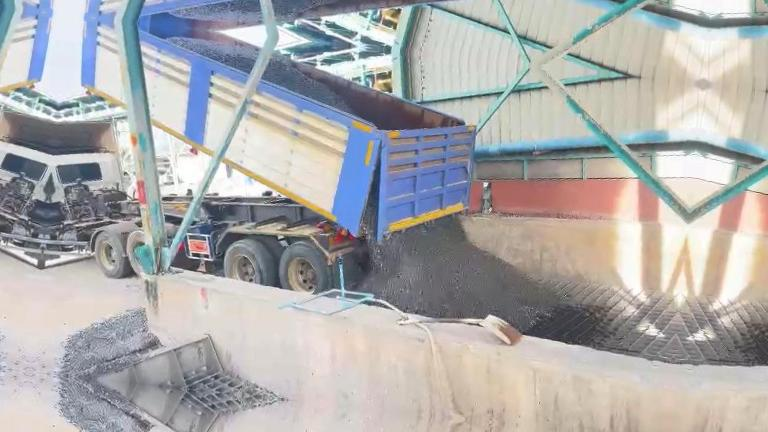gravel: (358, 216, 557, 331), (56, 309, 159, 378), (263, 54, 355, 113), (168, 37, 258, 73), (361, 173, 379, 244)
